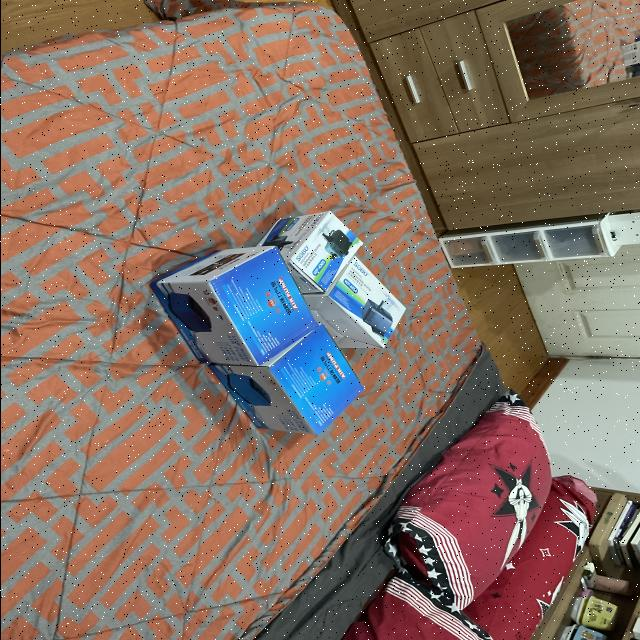SOBO_WP_4200: (316, 255, 424, 352), (272, 201, 378, 289)
YAMANO_LPP_20: (138, 228, 310, 356), (200, 303, 365, 433)
